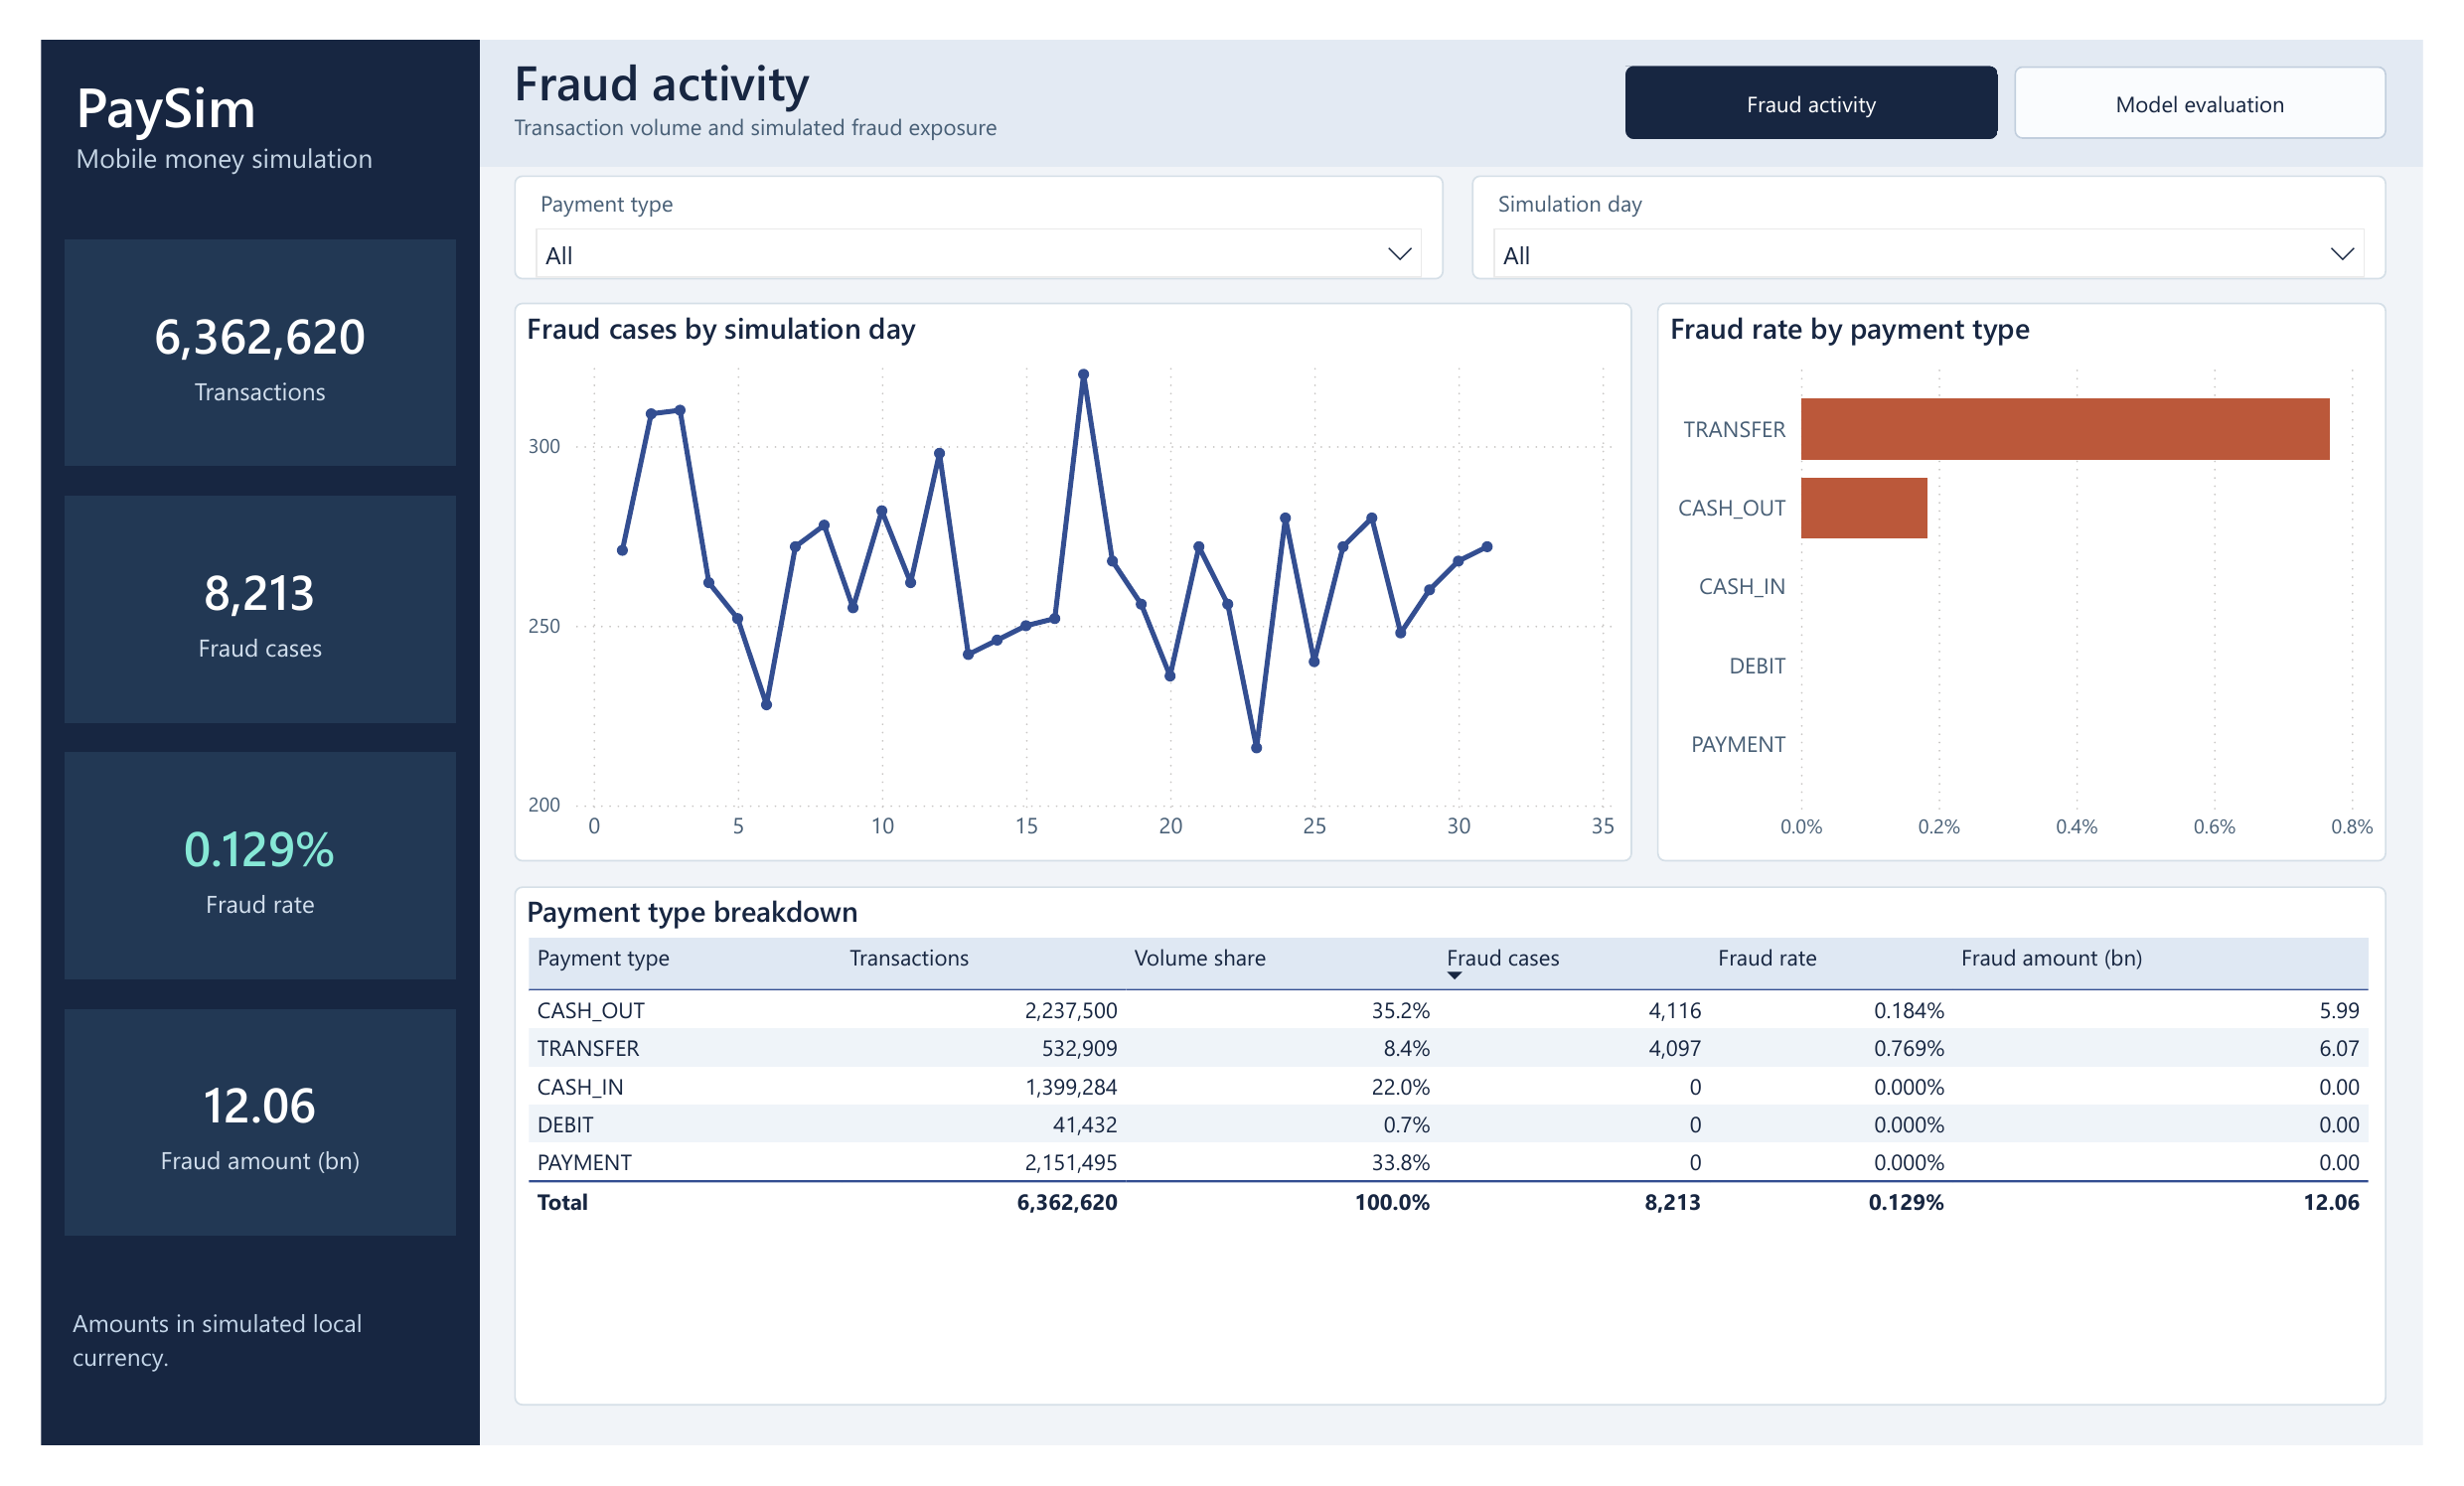

What the dashboard file says about the page in this screenshot:
{"tool":"powerbi","page":{"name":"Fraud activity","canvas":[1440,850],"ordinal":0},"visuals":[{"type":"textbox","box":[0,0,265,850],"z":0},{"type":"textbox","box":[16,12,239,102],"z":1},{"type":"textbox","box":[265,0,1175,77],"z":2},{"type":"textbox","box":[281,0,605,77],"z":3},{"type":"pageNavigator","box":[958,16,460,44],"z":4},{"type":"card","fields":{"Values":["Activity.Transactions"]},"box":[14,121,237,137],"z":5},{"type":"card","fields":{"Values":["Activity.Fraud cases"]},"box":[14,276,237,137],"z":6},{"type":"card","fields":{"Values":["Activity.Fraud rate"]},"box":[14,431,237,137],"z":7},{"type":"card","fields":{"Values":["Activity.Fraud amount (bn)"]},"box":[14,586,237,137],"z":8},{"type":"textbox","box":[14,761,239,76],"z":9},{"type":"slicer","fields":{"Values":["Activity.Payment type"]},"box":[286,82,562,63],"z":10},{"type":"slicer","fields":{"Values":["Activity.Simulation day"]},"box":[865,82,553,63],"z":11},{"type":"lineChart","title":"Fraud cases by simulation day","fields":{"Category":["Activity.Simulation day"],"Y":["Activity.Fraud cases"]},"box":[286,159,676,338],"z":12},{"type":"clusteredBarChart","title":"Fraud rate by payment type","fields":{"Category":["Activity.Payment type"],"Y":["Activity.Fraud rate"]},"box":[977,159,441,338],"z":13},{"type":"tableEx","title":"Payment type breakdown","fields":{"Values":["Activity.Payment type","Activity.Transactions","Activity.Volume share","Activity.Fraud cases","Activity.Fraud rate","Activity.Fraud amount (bn)"]},"box":[286,512,1132,314],"z":14}]}

Visuals, with their boxes in screenshot pixels (x1, y1, x2, y2), scaled from the page's 1440x850 canvas onto the 2464x1486 screenshot:
textbox: BBox(0, 0, 453, 1485)
textbox: BBox(28, 21, 436, 200)
textbox: BBox(453, 0, 2463, 135)
textbox: BBox(481, 0, 1516, 135)
pageNavigator: BBox(1639, 28, 2426, 105)
card - Activity.Transactions: BBox(24, 212, 429, 451)
card - Activity.Fraud cases: BBox(24, 483, 429, 722)
card - Activity.Fraud rate: BBox(24, 754, 429, 993)
card - Activity.Fraud amount (bn): BBox(24, 1024, 429, 1263)
textbox: BBox(24, 1330, 433, 1463)
slicer - Activity.Payment type: BBox(490, 143, 1451, 253)
slicer - Activity.Simulation day: BBox(1480, 143, 2426, 253)
"Fraud cases by simulation day" lineChart: BBox(490, 278, 1646, 869)
"Fraud rate by payment type" clusteredBarChart: BBox(1672, 278, 2426, 869)
"Payment type breakdown" tableEx: BBox(490, 895, 2426, 1444)
